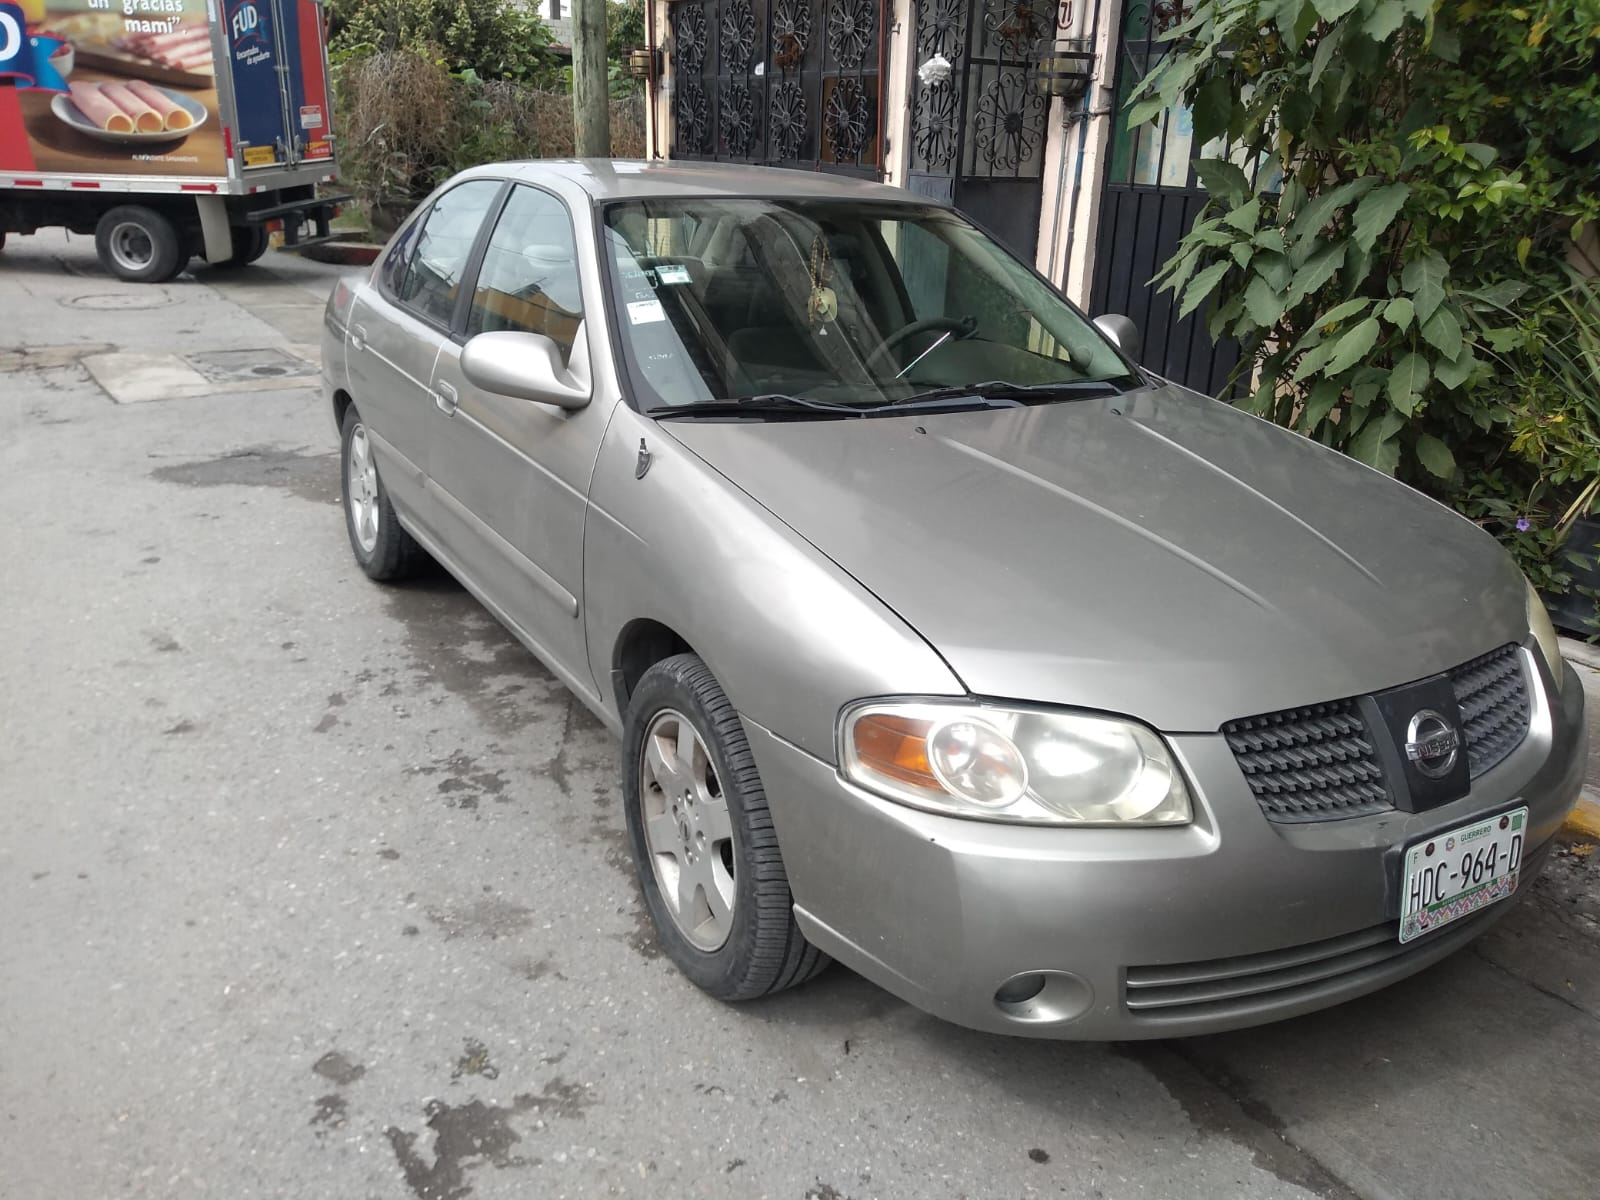Auto: (325, 156, 1591, 1040), (1, 1, 345, 276)
